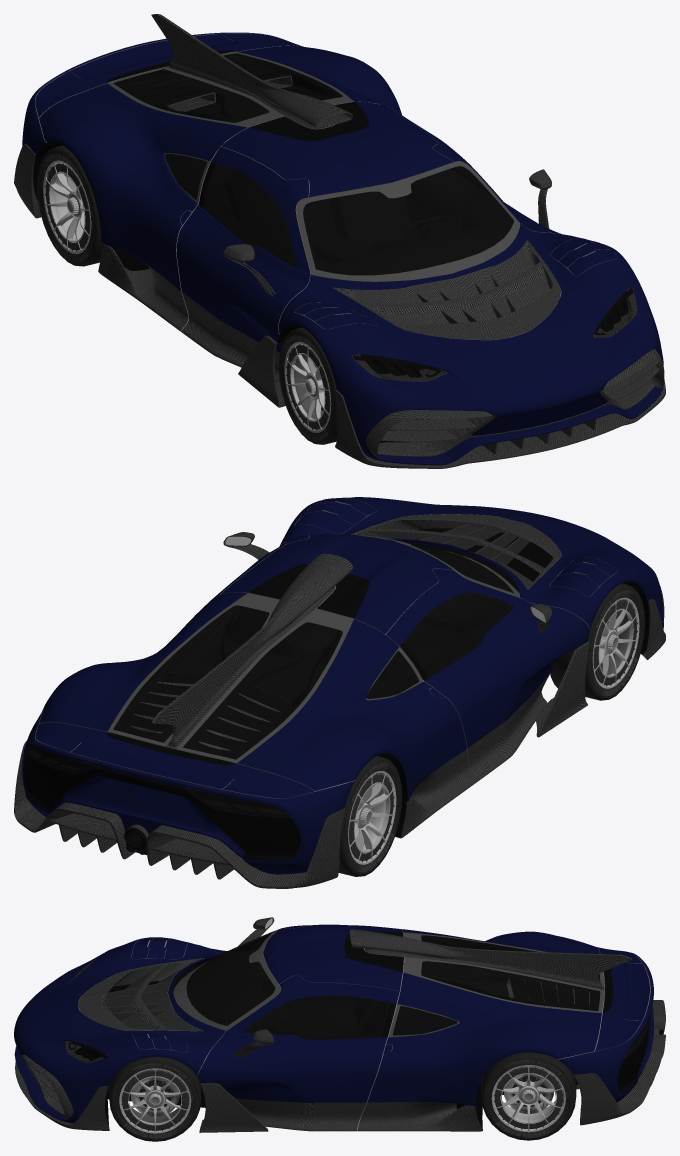
The model's file is mercedes-amg-one.glb.
3 renders of one model, top to bottom at view 1: azimuth 30°, elevation 25°; view 2: azimuth 150°, elevation 25°; view 3: azimuth 270°, elevation 25°, orthographic. The views are drawn at different scales.
Parts seen in each view (by area): view 1: body_body_color_0_75, body_window_0_77, body_carbon_0_76, parts_m_cc_carbon_0_10, body_window_b_0_78, INTAKE_carbon_0_57, light_glass_window_0_31, body_piano_black_0_79, rim1_wheel_0_101, body_mizo_0_80, rubber1_rubber_side_0_96, rim_wheel_0_89 (+10 smaller); view 2: body_body_color_0_75, body_window_0_77, body_carbon_0_76, parts3_m_cc_carbon_0_38, INTAKE_carbon_0_57, rear_panel2_mesh_r_0_51, rear_panel2_rear_mesh_panel_0_50, body_window_b_0_78, body_piano_black_0_79, rear_panel1_window_0_48, side_wing_carbon_0_19, rim1_wheel_0_101 (+12 smaller); view 3: body_body_color_0_75, body_window_0_77, body_carbon_0_76, INTAKE_carbon_0_57, body_window_b_0_78, parts3_m_cc_carbon_0_38, parts_m_cc_carbon_0_10, rubber1_rubber_side_0_96, rubber_rubber_side_0_84, side_wing_carbon_0_19, rim1_wheel_0_101, rim_wheel_0_89 (+18 smaller).
Part boxes in pixels (x1,y1,x2,y2): body_body_color_0_75: (22,32,663,465); body_window_0_77: (113,53,514,275); body_carbon_0_76: (98,66,561,382); parts_m_cc_carbon_0_10: (335,349,665,468); body_window_b_0_78: (108,52,520,281); INTAKE_carbon_0_57: (151,14,353,128); light_glass_window_0_31: (352,287,636,381); body_piano_black_0_79: (107,50,368,207); rim1_wheel_0_101: (43,160,91,254); body_mizo_0_80: (35,33,617,340); rubber1_rubber_side_0_96: (37,148,97,266); rim_wheel_0_89: (284,342,331,432); body_body_color_0_75: (22,497,663,874); body_window_0_77: (113,541,514,759); body_carbon_0_76: (166,514,560,838); parts3_m_cc_carbon_0_38: (14,741,345,888); INTAKE_carbon_0_57: (151,553,353,746); rear_panel2_mesh_r_0_51: (23,754,300,860); rear_panel2_rear_mesh_panel_0_50: (23,753,301,860); body_window_b_0_78: (108,535,520,762); body_piano_black_0_79: (107,564,427,765); rear_panel1_window_0_48: (26,747,289,817); side_wing_carbon_0_19: (535,642,589,737); rim1_wheel_0_101: (348,771,396,864); body_body_color_0_75: (14,924,653,1123); body_window_0_77: (186,931,600,1039); body_carbon_0_76: (79,948,603,1131); INTAKE_carbon_0_57: (349,929,631,988); body_window_b_0_78: (173,928,603,1037); parts3_m_cc_carbon_0_38: (574,1000,665,1125); parts_m_cc_carbon_0_10: (15,1054,109,1130); rubber1_rubber_side_0_96: (482,1056,575,1140); rubber_rubber_side_0_84: (110,1059,200,1141); side_wing_carbon_0_19: (199,1083,268,1132); rim1_wheel_0_101: (491,1065,565,1132); rim_wheel_0_89: (119,1068,191,1133).
Bounding box in the file's own units: 214 × 125 × 486.
30 materials, 10 textured.
